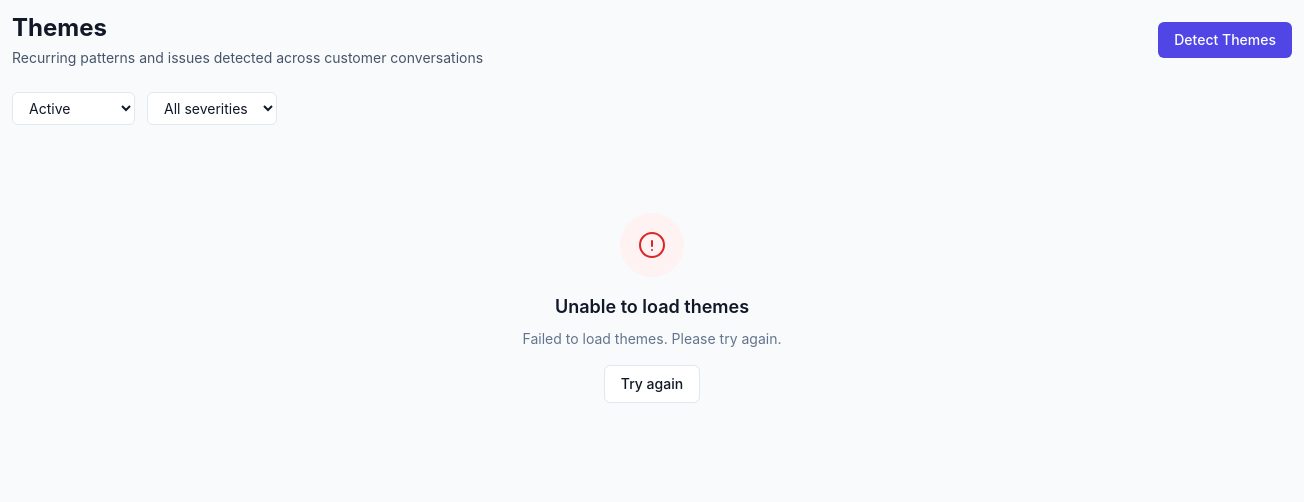
Scenario: ThemesPage › retries on error retry button click
Click the button "Try again" at [652, 384], box [604, 365, 700, 403]
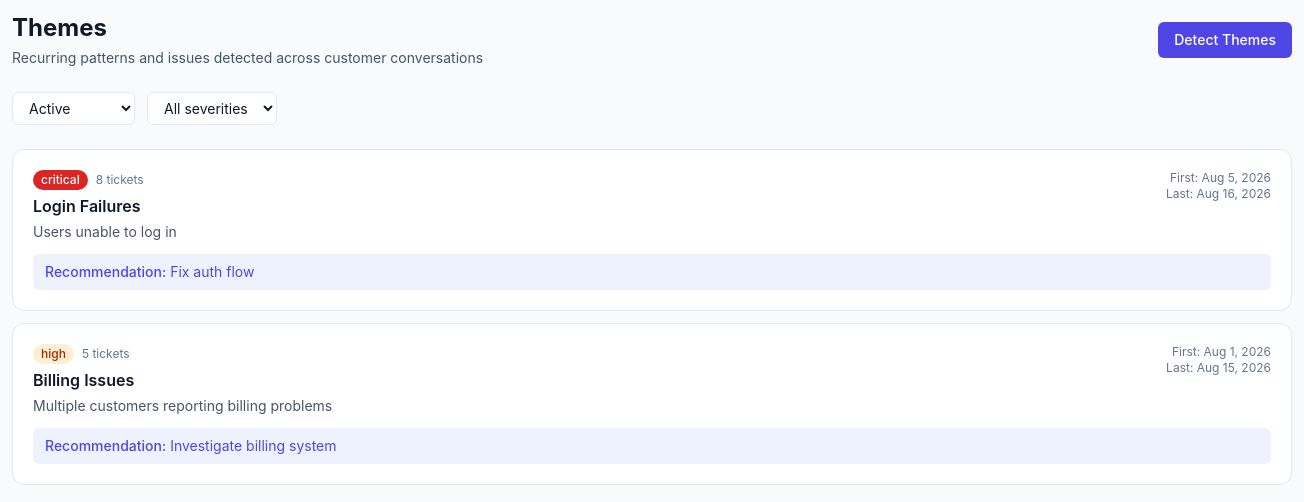
Expected: the text "Billing Issues" is shown, [33, 370, 134, 390]
Expected: the text "Unable to load themes" is gone
